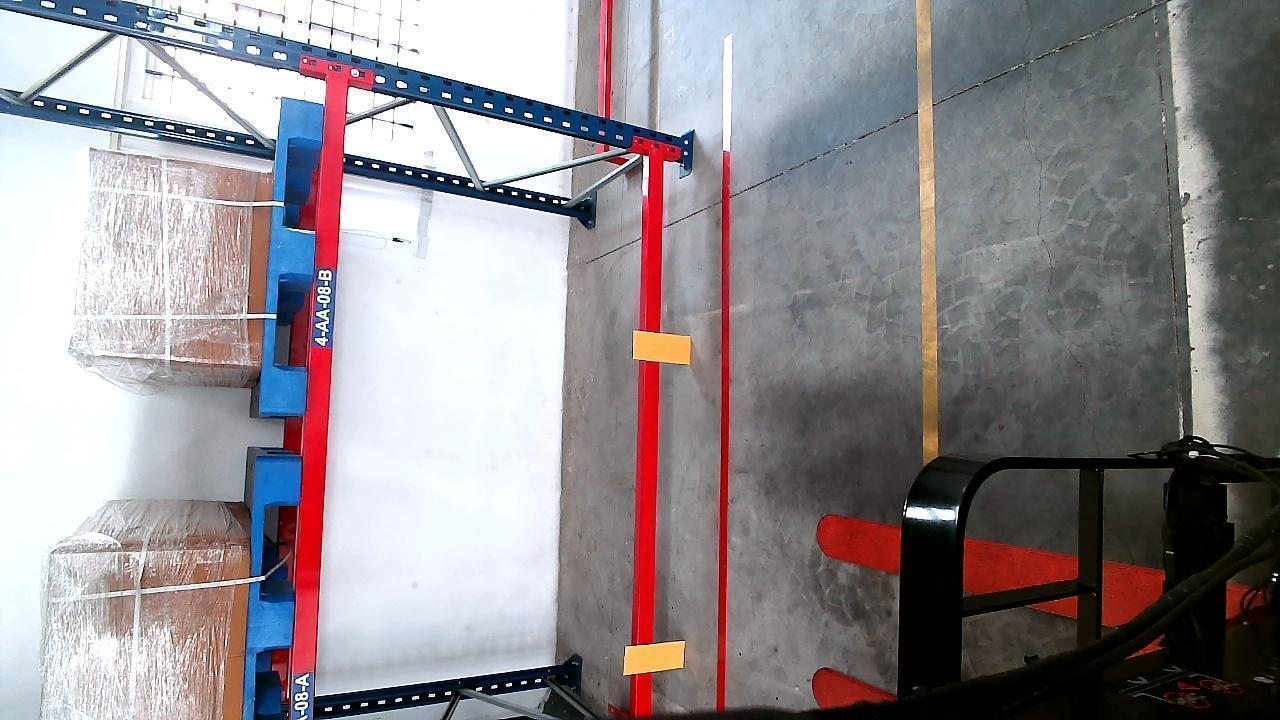red_line: (715, 33, 732, 708)
yellow_line: (917, 0, 943, 460)
